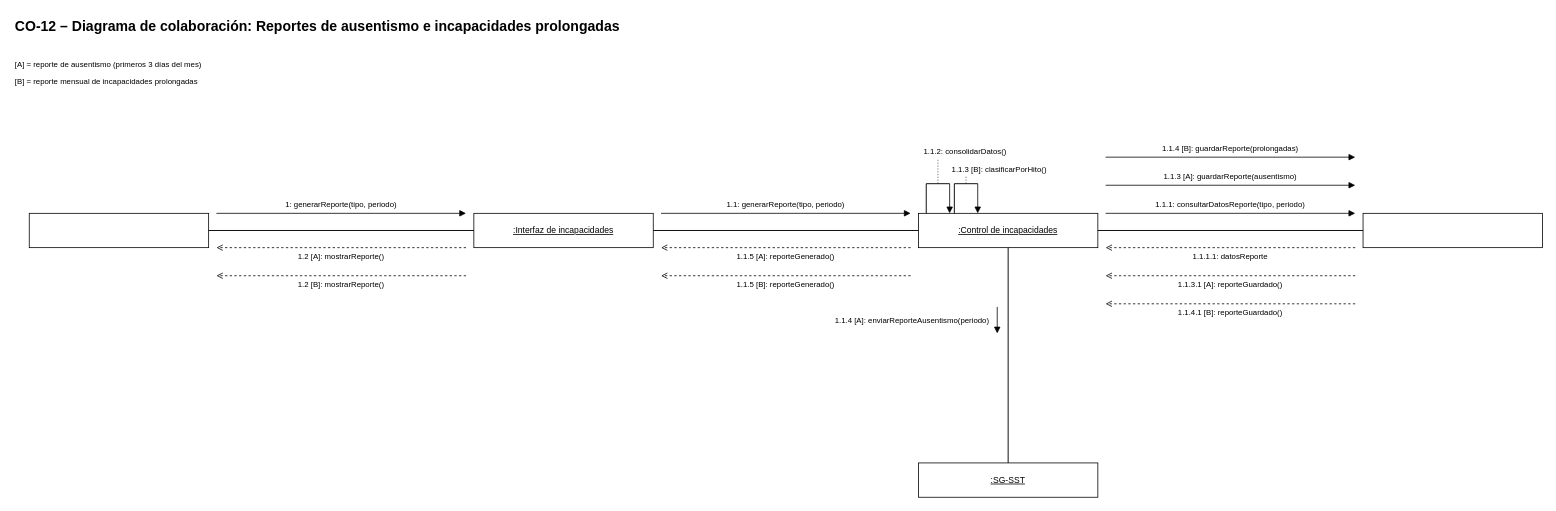
The diagram is 1556 pixels wide and 511 high, and some of its shapes have lost their labels. The centre of each missing label's shape, as x and y in pixels:
:Auxiliar de Administración de Personal: (x=118, y=230)
:Base de datos: (x=1452, y=230)
